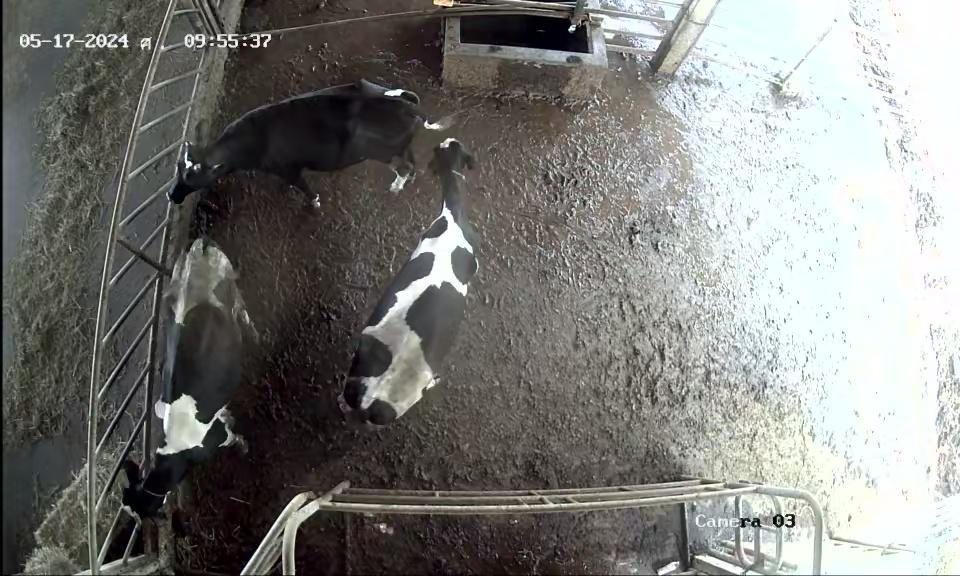stand: (334, 124, 485, 462), (153, 62, 425, 232), (118, 218, 246, 531)
